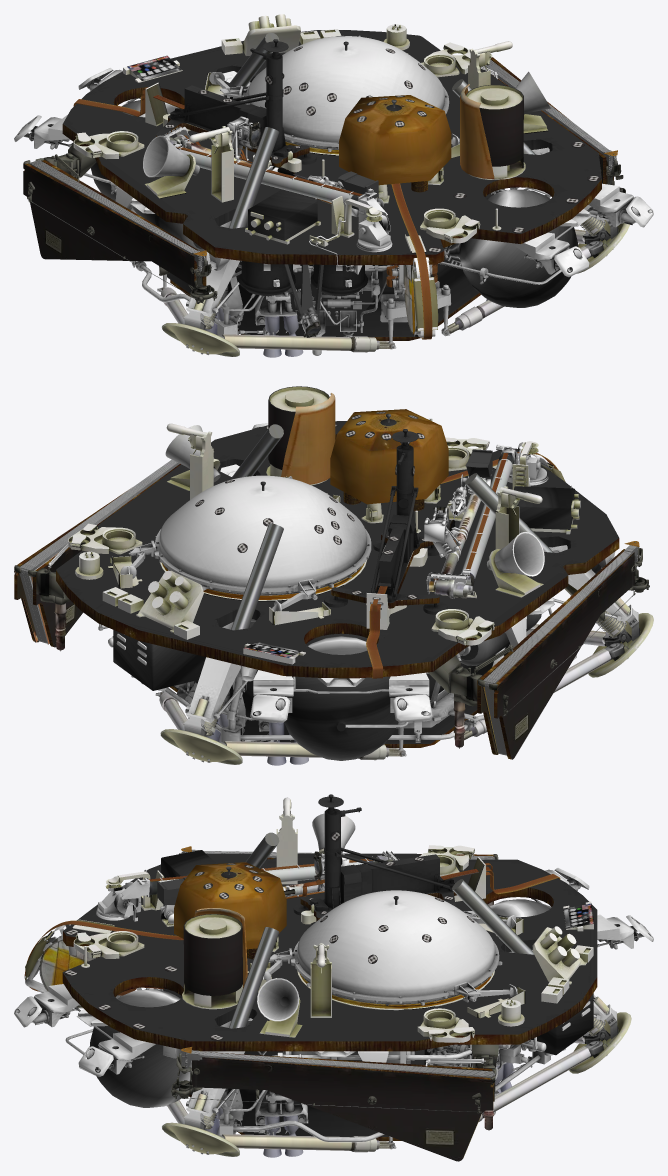
Rendered from in-sight-cruise-lander-4.glb.
3 renders of one model, top to bottom at view 1: azimuth 30°, elevation 25°; view 2: azimuth 150°, elevation 25°; view 3: azimuth 270°, elevation 25°, orthographic. The views are drawn at different scales.
Parts seen in each view (by area): view 1: Lander Deployed Simplified coarse.1043, Cylinder.000, Lander Deployed Simplified coarse.032, SEIS, UHF_antenna, HP3, RISE_antennas, TWINS, Lander Deployed Simplified coarse.010 (×2), Cube.287, Cube.393 (×2), Cube.021 (+8 smaller); view 2: Lander Deployed Simplified coarse.1043, Cylinder.000, SEIS, Lander Deployed Simplified coarse.032, HP3, UHF_antenna, Cube.393 (×3), RISE_antennas, Lander Deployed Simplified coarse.010 (×2), TWINS, Cube.287, Cube.286 (+10 smaller); view 3: Lander Deployed Simplified coarse.1043, Cylinder.000, Cube.051, HP3, SEIS, UHF_antenna, Cube.393 (×3), Lander Deployed Simplified coarse.010 (×2), RISE_antennas, TWINS, Cube.014, Cube.287 (+8 smaller).
Boxes of the visible parts, x1,y1,x2,y2 form: Lander Deployed Simplified coarse.1043: (14,14,653,357); Cylinder.000: (219,35,449,151); Lander Deployed Simplified coarse.032: (23,160,217,303); SEIS: (339,95,451,192); UHF_antenna: (460,84,525,179); HP3: (149,39,316,173); RISE_antennas: (143,71,550,198); TWINS: (189,41,512,202); Lander Deployed Simplified coarse.010 (×2): (161,219,629,356); Cube.287: (162,126,388,230); Cube.393 (×2): (203,32,279,329); Cube.021: (218,334,377,352); Lander Deployed Simplified coarse.1043: (40,418,631,765); Cylinder.000: (128,475,371,599); SEIS: (330,409,448,511); Lander Deployed Simplified coarse.032: (489,552,649,759); HP3: (324,429,447,614); UHF_antenna: (266,386,335,485); Cube.393 (×3): (204,424,627,736); RISE_antennas: (165,425,544,597); Lander Deployed Simplified coarse.010 (×2): (160,608,653,764); TWINS: (166,423,542,549); Cube.287: (426,444,518,598); Cube.286: (426,474,490,598); Lander Deployed Simplified coarse.1043: (14,845,653,1157); Cylinder.000: (269,890,502,1005); Cube.051: (171,1057,495,1161); HP3: (293,794,456,926); SEIS: (174,862,286,959); UHF_antenna: (182,908,247,1009); Cube.393 (×3): (203,832,606,1129); Lander Deployed Simplified coarse.010 (×2): (162,1008,631,1156); RISE_antennas: (257,813,355,1037); TWINS: (276,797,331,1017); Cube.014: (218,1134,377,1152); Cube.287: (114,850,399,913).
Size of the model in its own units: 1.95 by 1.04 by 2.31.
11 materials, 11 textured.
